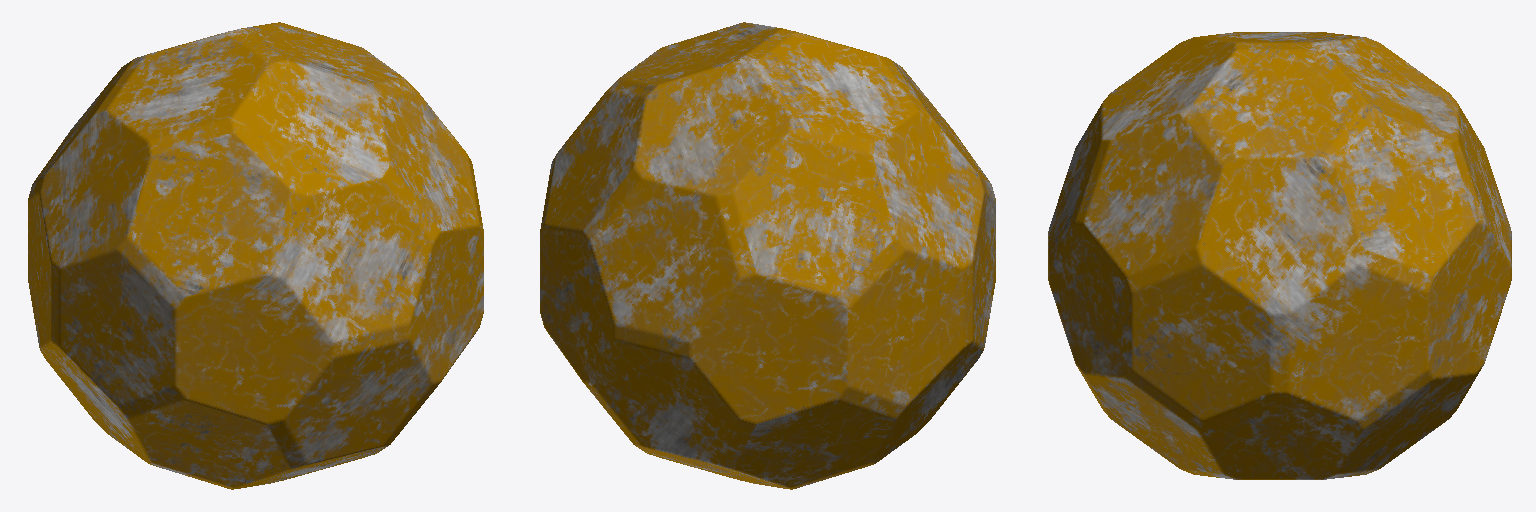
3 views of the same model, side by side, from view 1: azimuth 30°, elevation 25°; view 2: azimuth 150°, elevation 25°; view 3: azimuth 270°, elevation 25° (orthographic).
Visible parts, largest first — view 1: default; view 2: default; view 3: default.
Part boxes in pixels (x1,y1,x2,y2): default: (28,22,483,489); default: (540,22,995,489); default: (1048,32,1511,479).
Bounding box in the file's own units: 2.39 × 2.39 × 2.39.
1 materials, 1 textured.